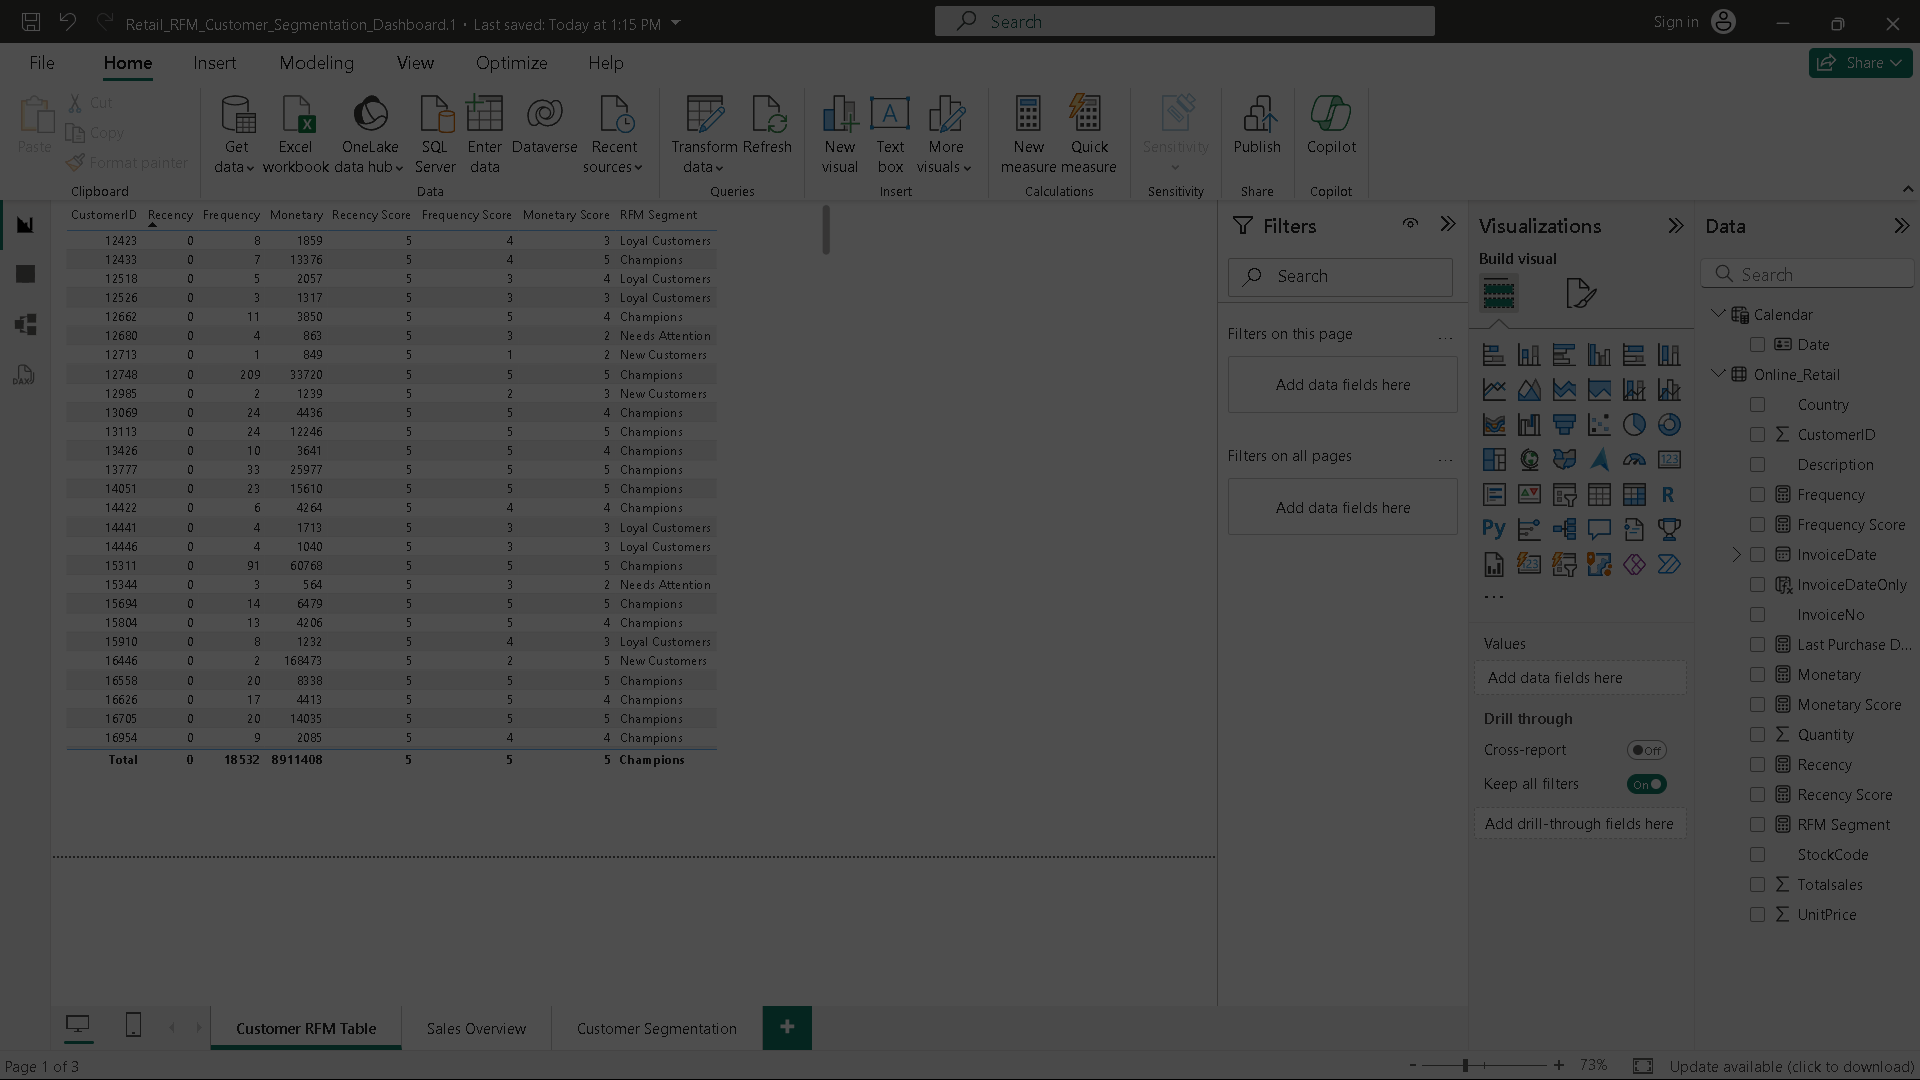

The dashboard page shown, as its layout file describes it:
{"tool":"powerbi","page":{"name":"Customer RFM Table","canvas":[1280,720],"ordinal":0},"visuals":[{"type":"tableEx","fields":{"Values":["Online_Retail.CustomerID","Online_Retail.Recency","Online_Retail.Frequency","Online_Retail.Monetary","Online_Retail.Recency Score","Online_Retail.Frequency Score","Online_Retail.Monetary Score","Online_Retail.RFM Segment"]},"box":[11,0,849.4,628.5],"z":0}]}

Visuals, with their boxes on the page's 1280x720 design canvas (x1, y1, x2, y2). These are canvas units, not pixel positions in the 1920x1080 screenshot, which may show the page scaled, cropped or inside an application window:
tableEx - Online_Retail.CustomerID x Online_Retail.Recency: bbox=(11, 0, 860, 628)
